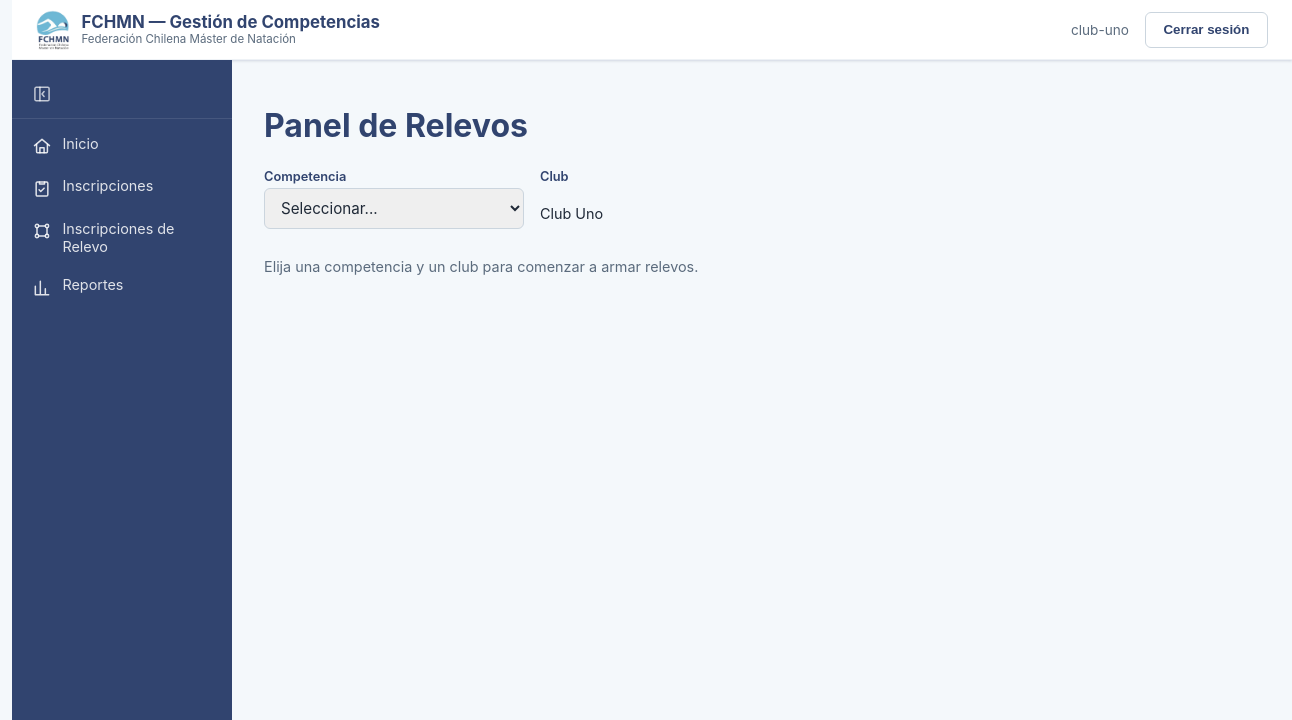
competencia ABIERTA: todo operativo › la prueba es seleccionable y los equipos tienen Editar y ×
Select "Competencia A" in the dropdown at (394, 209), box [264, 188, 524, 229]
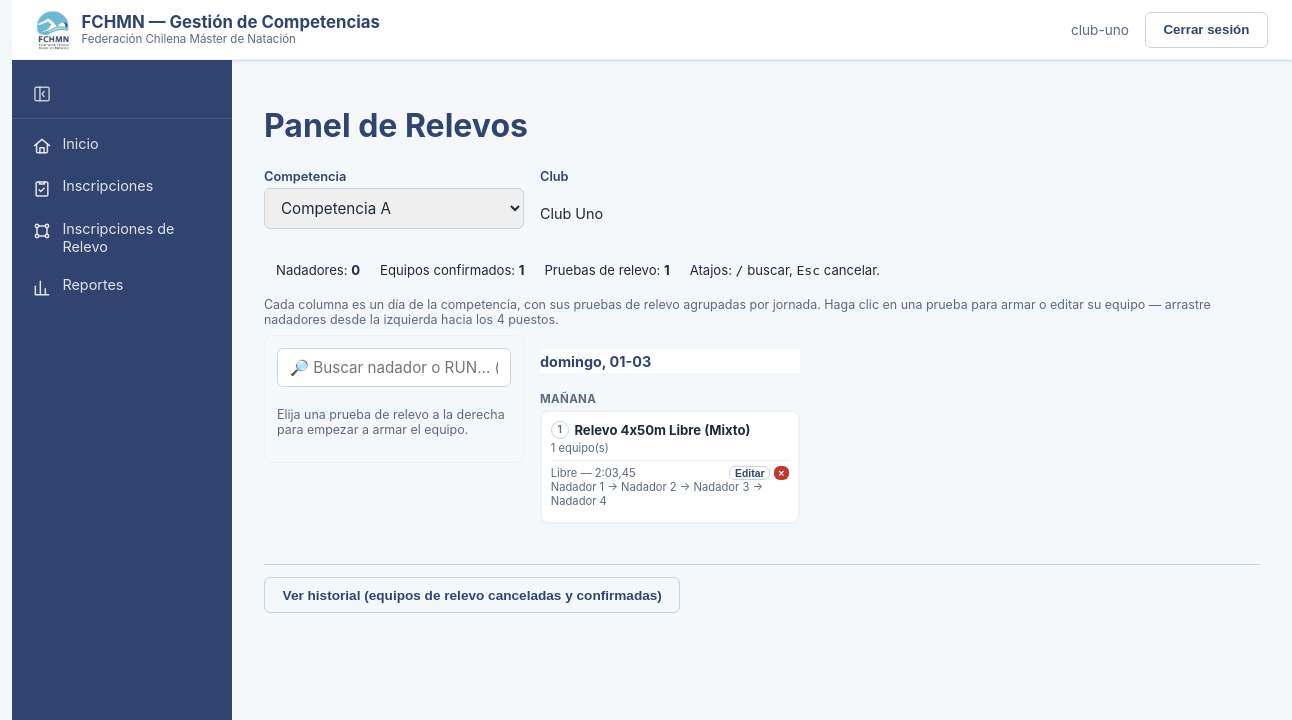
Now the button "Editar" is shown, box [729, 466, 770, 480]
Now the button "×" is shown, box [774, 466, 789, 480]
